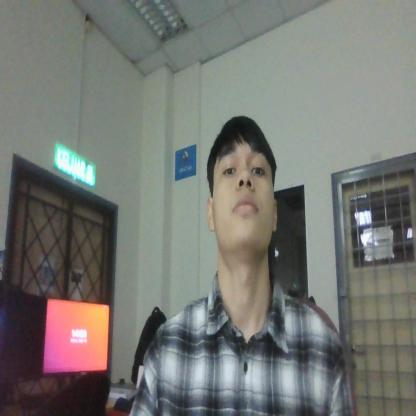Open-Eyes: (220, 154, 272, 184)
